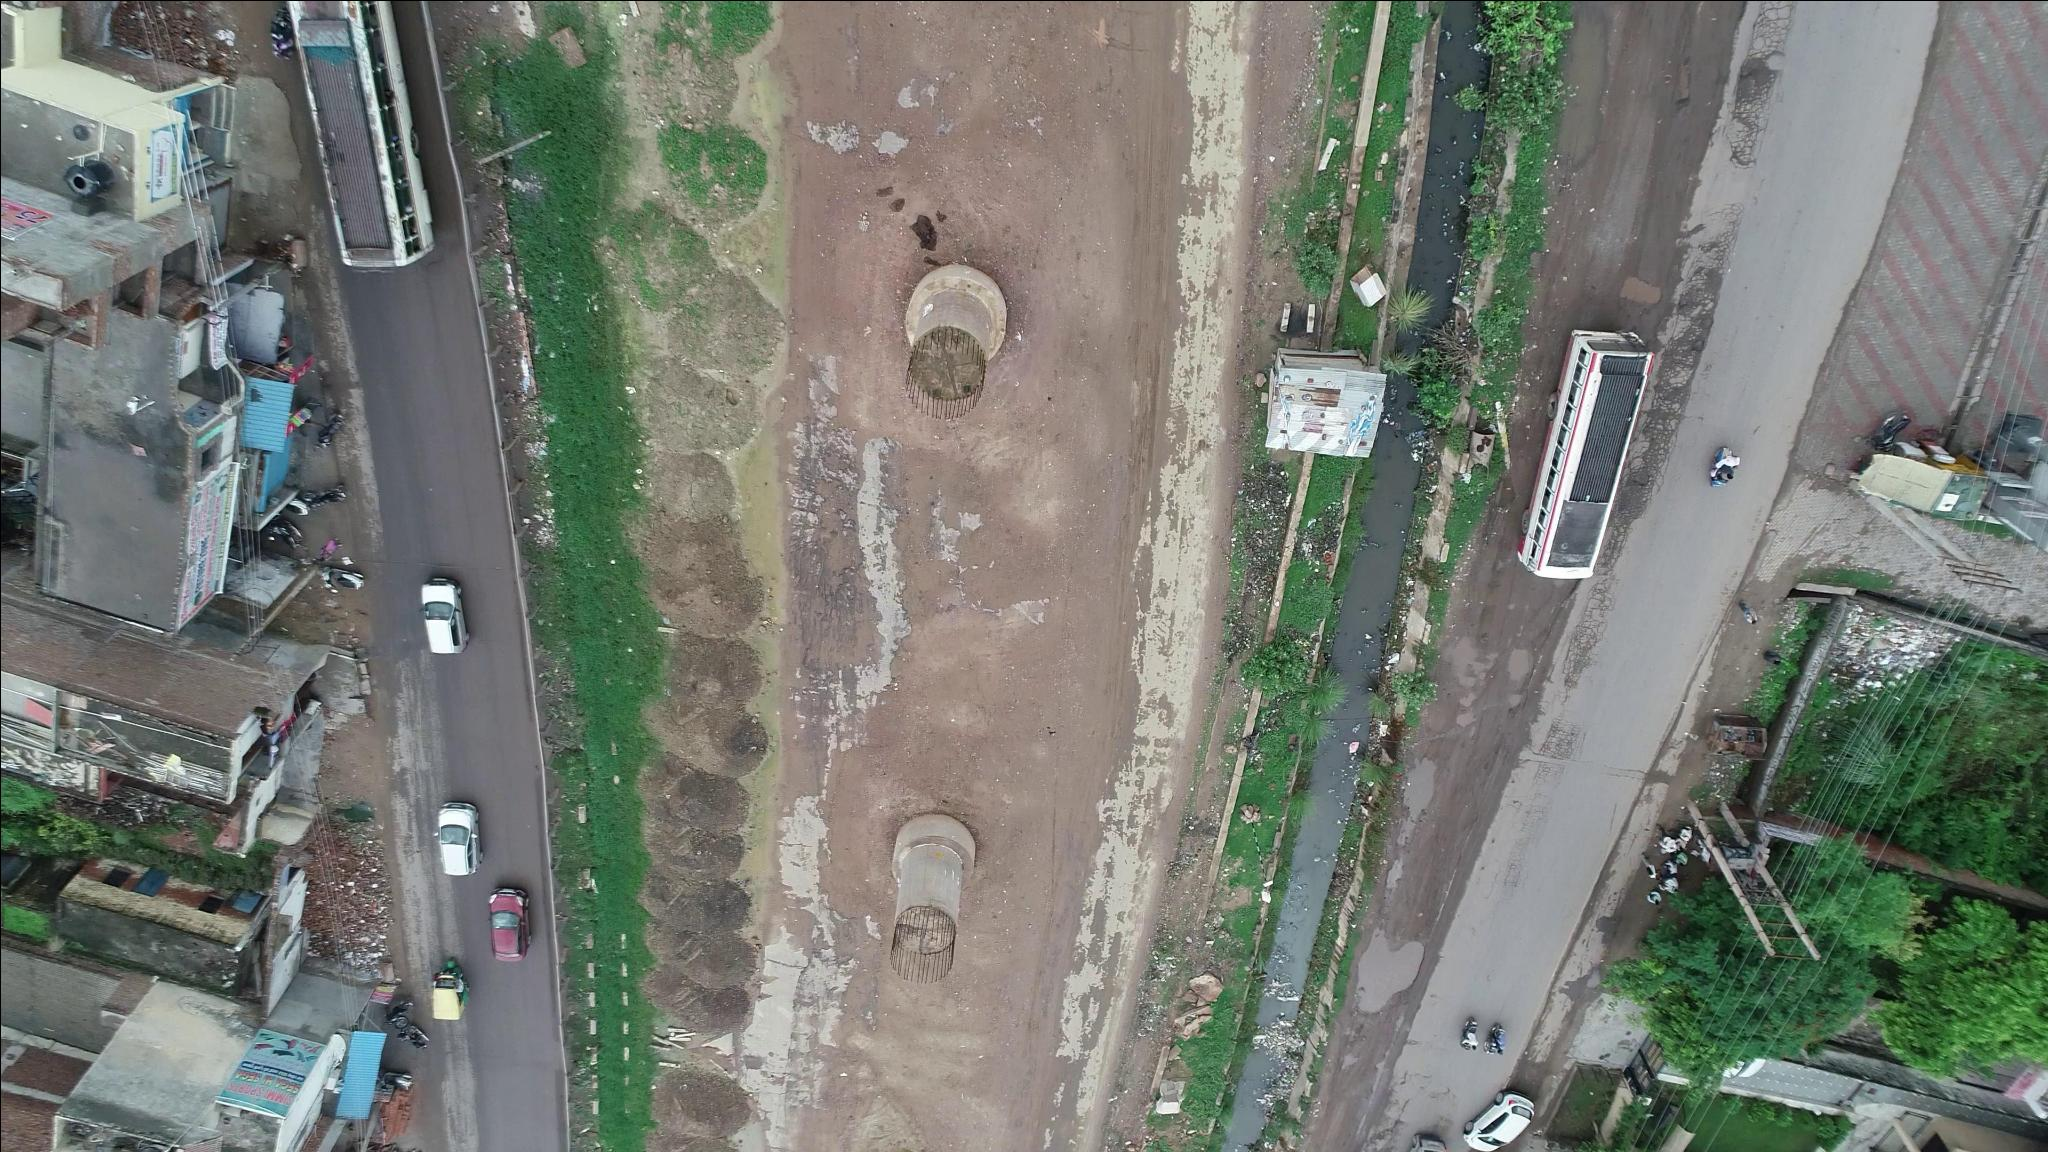Waterlogging: (1342, 928, 1436, 1018)
